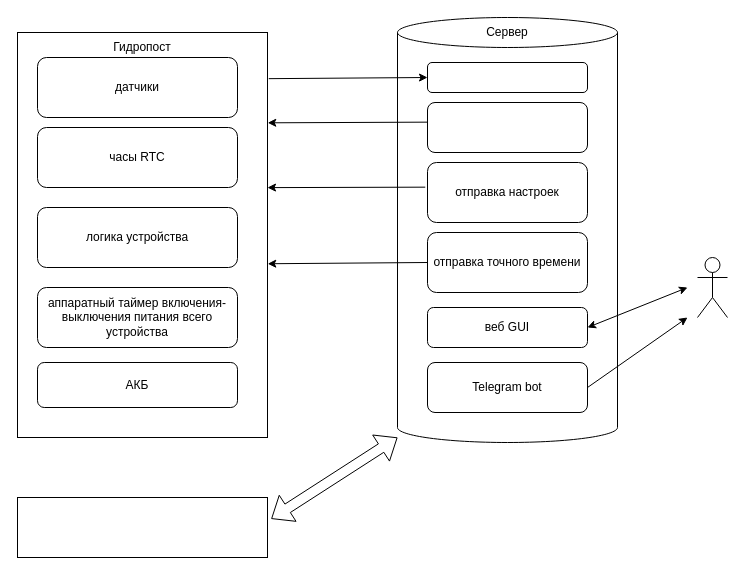
This 745x575 diagram has some shape labels left out. Here are the shapes that lost their labels. From the top down, the box of each, then its label:
(426, 62, 588, 92): получение телеметрии
(426, 102, 588, 152): отправка таймаута включения модема
(696, 256, 728, 318): Actor
(16, 496, 268, 558): Гидропост N
